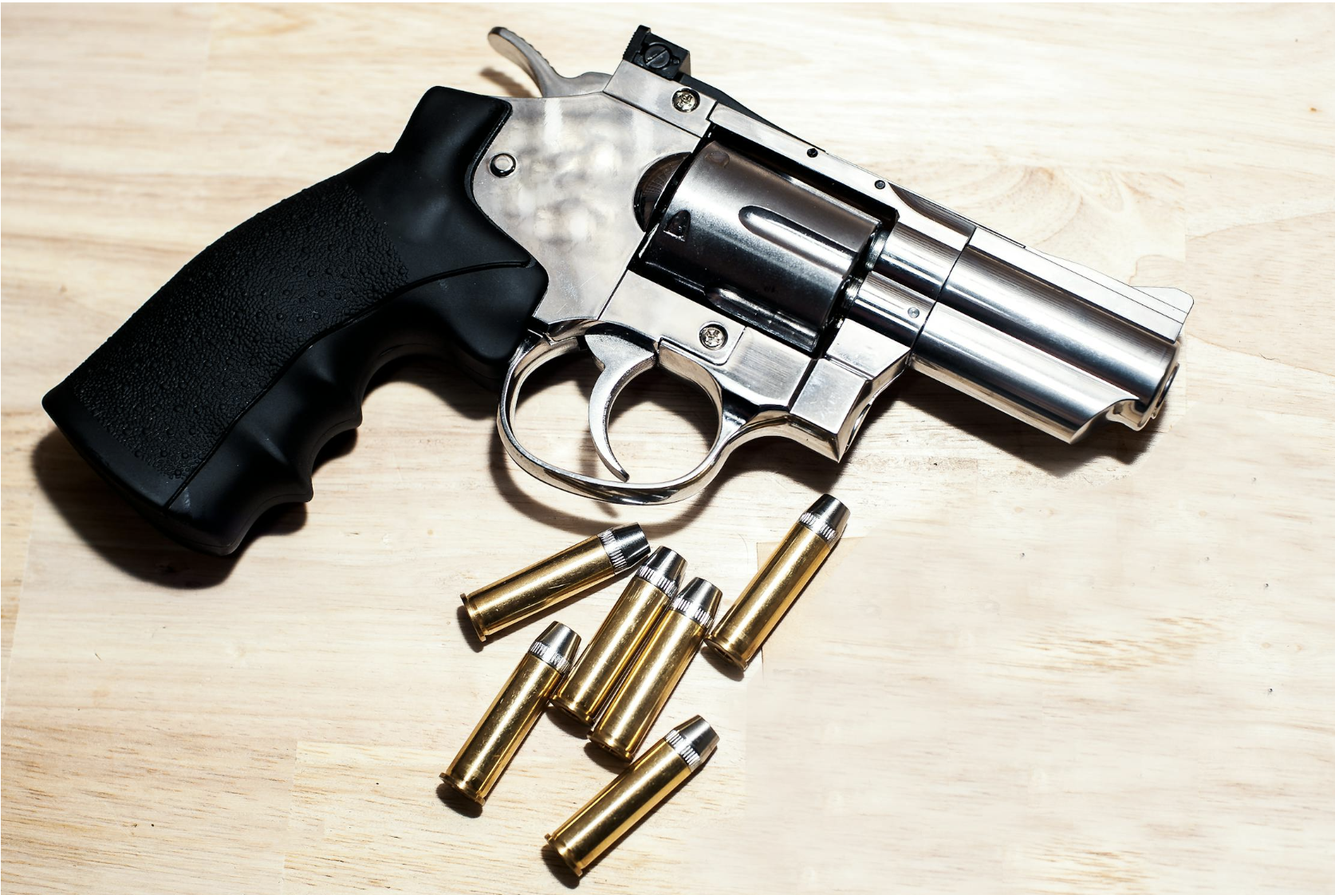gun_038.png: (30, 22, 1215, 597)
